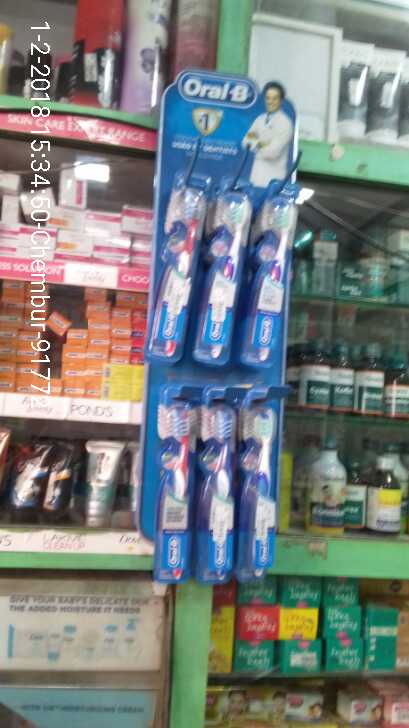oralb: (201, 396, 242, 591), (241, 399, 284, 584), (150, 386, 191, 577), (257, 197, 301, 374), (202, 186, 243, 359), (163, 178, 197, 353)
